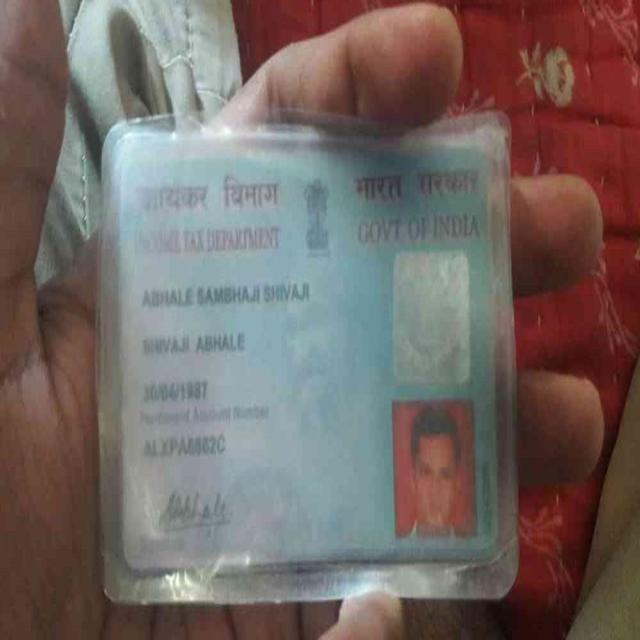pan_card: (123, 144, 495, 561)
